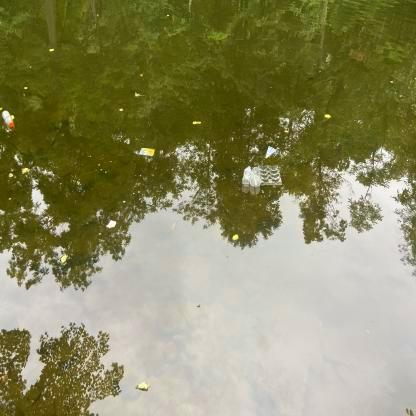Plastic: (242, 161, 285, 191), (0, 106, 17, 131), (265, 144, 278, 160)
